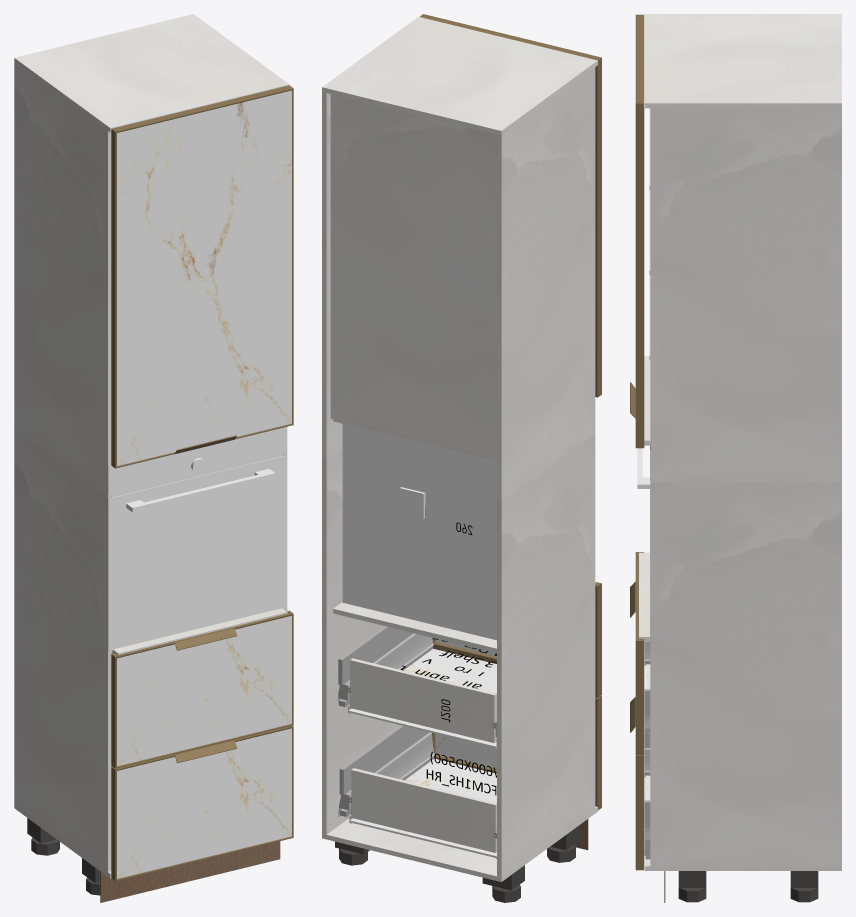
File: TC-OV-TTS-ST-3SX-2HB-RHS-600-2400-560-15.glb
The picture shows the model from 3 angles, left to right: view 1: azimuth 30°, elevation 25°; view 2: azimuth 150°, elevation 25°; view 3: azimuth 270°, elevation 25°; orthographic projection. The views are drawn at different scales.
Parts seen in each view (by area): view 1: TP_node_0, Object_node_71, SKP_Component1_node, Object_node_69, Object_node_67, TP, Object_node_77, Extrusion_node_18, TP_node_10, Extrusion_node_17, Extrusion_node_4, Extrusion_node_11 (+3 smaller); view 2: TP_node_0, TP_node_11, SKP_Component0_node_1, TP, TP_node_1, TP_node_5, TP_node_3, TP_node, TP_node_4, TP_node_2, Extrusion_node_18, TP_node_10 (+10 smaller); view 3: TP_node_1, TP, Extrusion_node_16, Extrusion_node_2, Extrusion_node_9, TP_node, TP_node_10, Extrusion_node_17, TP_node_9, SKP_Component1_node, Plate_node_1, Plate_node.
Part boxes in pixels (x1,y1,x2,y2): TP_node_0: [14, 63, 112, 871]; Object_node_71: [117, 90, 291, 465]; SKP_Component1_node: [108, 427, 286, 651]; Object_node_69: [117, 615, 291, 766]; Object_node_67: [117, 728, 291, 878]; TP: [14, 14, 289, 132]; Object_node_77: [100, 841, 280, 902]; Extrusion_node_18: [111, 129, 116, 468]; TP_node_10: [112, 608, 287, 654]; Extrusion_node_17: [111, 85, 293, 132]; Extrusion_node_4: [111, 767, 116, 881]; Extrusion_node_11: [111, 654, 116, 768]; TP_node_0: [497, 67, 595, 877]; TP_node_11: [330, 94, 496, 458]; SKP_Component0_node_1: [342, 423, 496, 640]; TP: [322, 16, 597, 135]; TP_node_1: [322, 92, 398, 834]; TP_node_5: [350, 658, 496, 743]; TP_node_3: [351, 768, 496, 852]; TP_node: [322, 806, 597, 881]; TP_node_4: [348, 648, 496, 748]; TP_node_2: [350, 758, 496, 857]; Extrusion_node_18: [595, 58, 601, 397]; TP_node_10: [333, 582, 595, 653]; TP_node_1: [650, 108, 841, 866]; TP: [645, 14, 841, 108]; Extrusion_node_16: [635, 103, 644, 448]; Extrusion_node_2: [635, 756, 644, 870]; Extrusion_node_9: [635, 641, 644, 755]; TP_node: [645, 777, 841, 870]; TP_node_10: [639, 552, 650, 641]; Extrusion_node_17: [635, 14, 644, 103]; TP_node_9: [644, 356, 650, 445]; SKP_Component1_node: [637, 448, 650, 639]; Plate_node_1: [678, 871, 706, 887]; Plate_node: [790, 871, 818, 887].
Size of what is drawn, in the model's own units: 0.6 by 2.5 by 0.6.
Materials: 10 (3 with a texture image).
